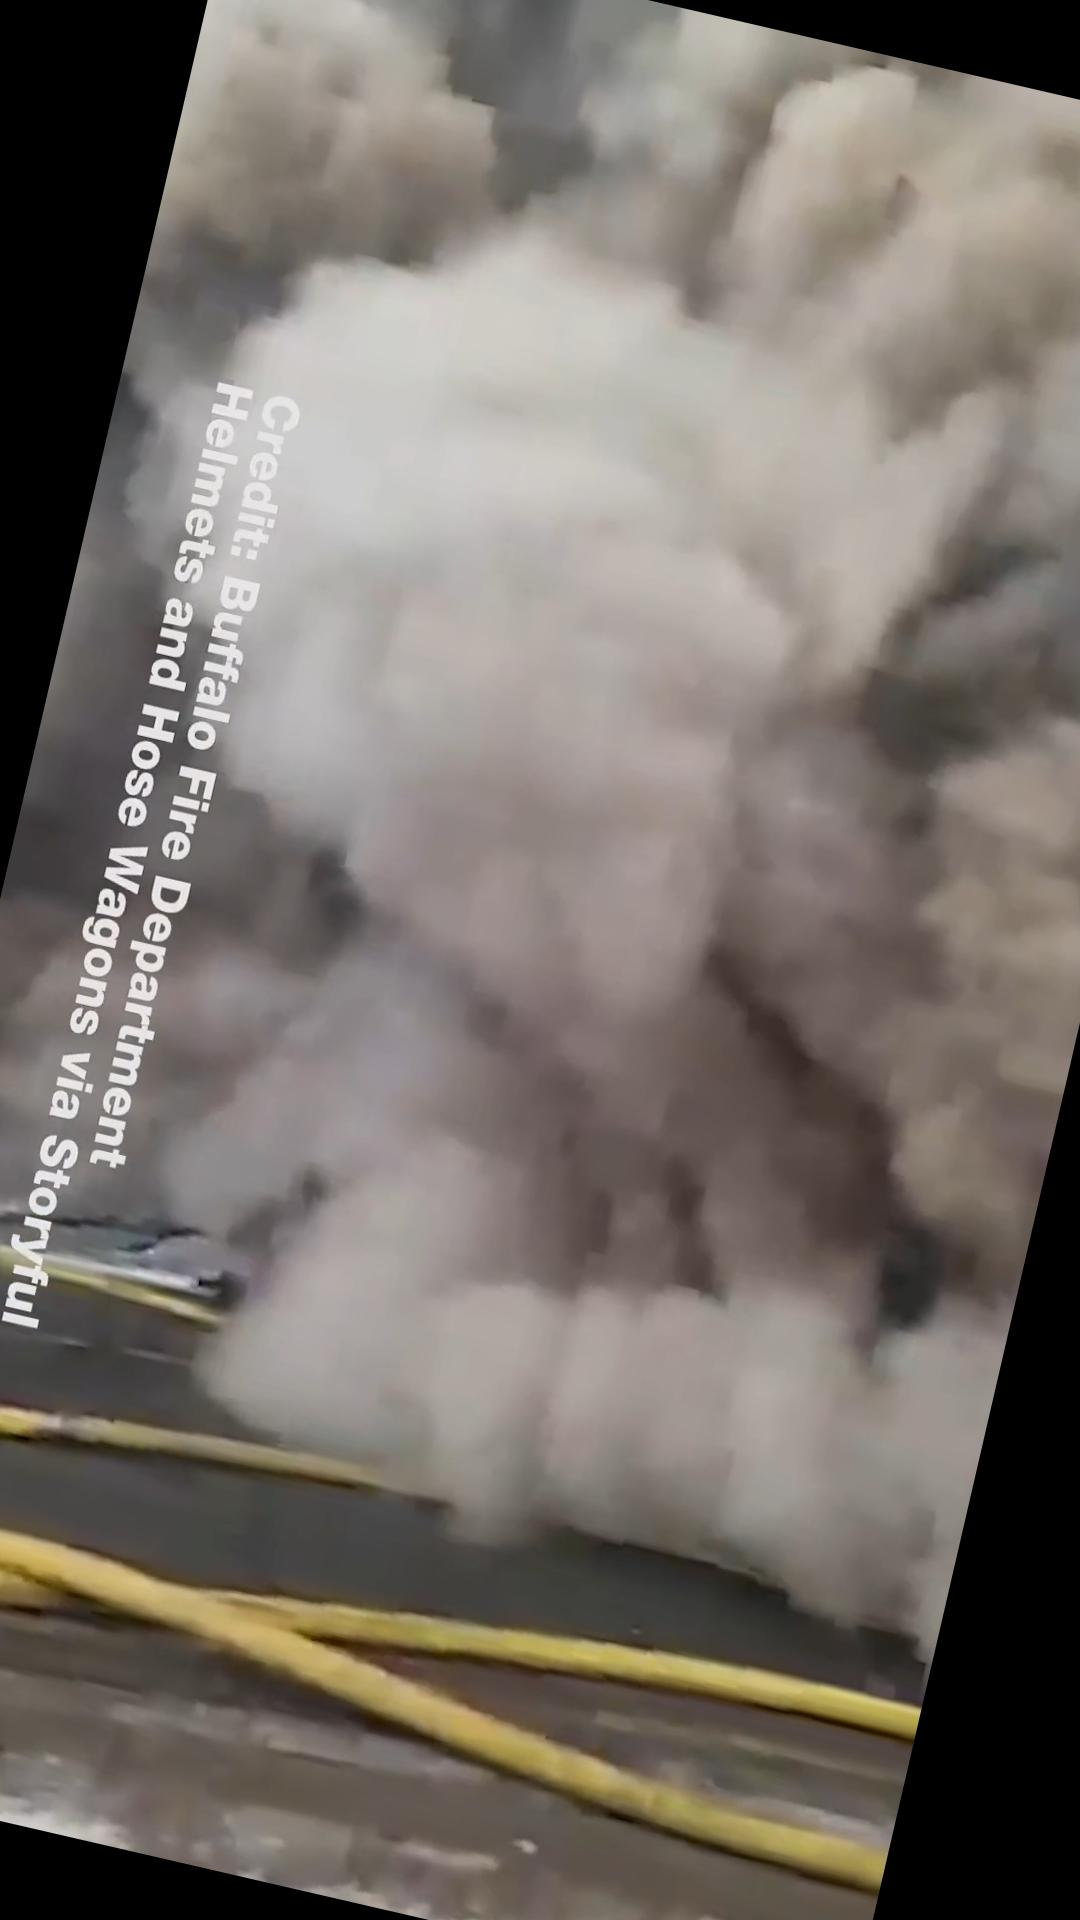Smoke: (82, 0, 1080, 1640)
